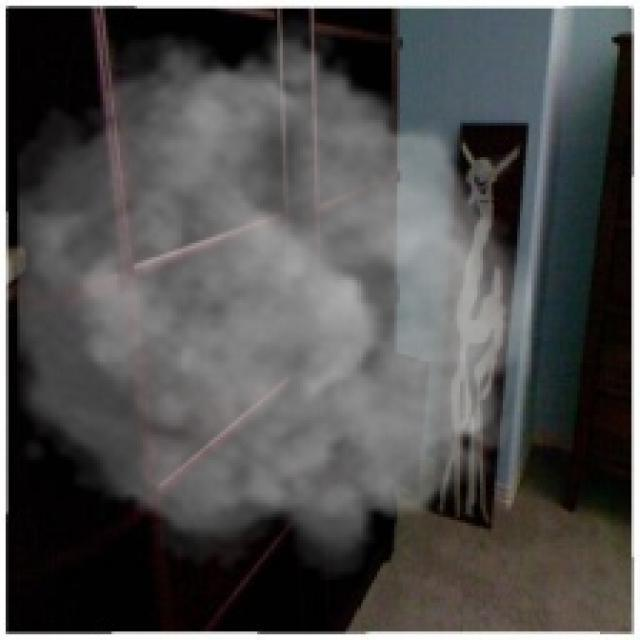Smoke: (17, 14, 532, 580)
